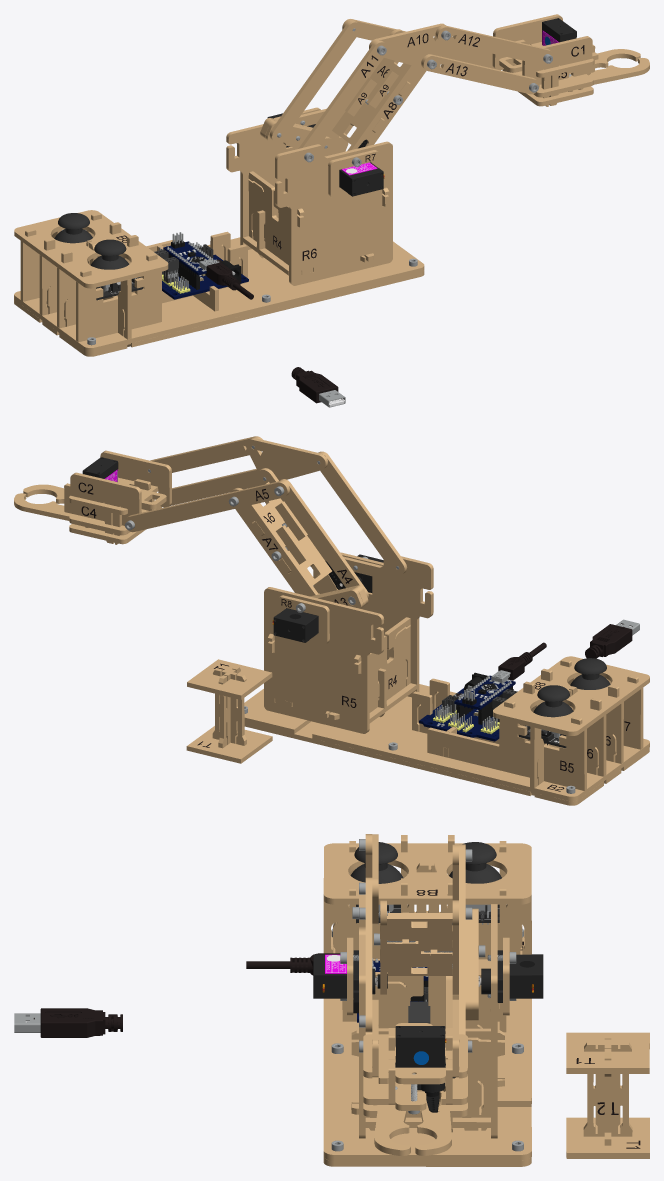
3 views of the same model, one above another, from view 1: azimuth 30°, elevation 25°; view 2: azimuth 150°, elevation 25°; view 3: azimuth 270°, elevation 25° (orthographic). The views are drawn at different scales.
Visible parts, largest first — view 1: NAUO14, NAUO2, NAUO8, NAUO7, NAUO15, NAUO13, NAUO21, NAUO1, NAUO25, NAUO27, NAUO28, NAUO6 (+24 smaller); view 2: NAUO15, NAUO2, NAUO4, NAUO14, NAUO8, NAUO22, NAUO13, NAUO1, NAUO25, NAUO26, NAUO5, NAUO33 (+27 smaller); view 3: NAUO2, NAUO8, NAUO29, NAUO9, NAUO13, NAUO44, NAUO41, USBCableend, NAUO12, NAUO42, ARA_C3_Rev1, NAUO163 (×2) (+27 smaller).
Boxes of the visible parts, bbox=[...] form: NAUO14: bbox=[275, 141, 392, 285]; NAUO2: bbox=[14, 237, 424, 352]; NAUO8: bbox=[14, 210, 168, 288]; NAUO7: bbox=[76, 253, 161, 342]; NAUO15: bbox=[226, 108, 326, 249]; NAUO13: bbox=[248, 171, 304, 265]; NAUO21: bbox=[269, 20, 361, 142]; NAUO1: bbox=[14, 270, 424, 356]; NAUO25: bbox=[298, 40, 387, 148]; NAUO27: bbox=[435, 25, 553, 65]; NAUO28: bbox=[421, 54, 539, 94]; NAUO6: bbox=[57, 235, 247, 333]; NAUO15: bbox=[264, 587, 384, 733]; NAUO2: bbox=[244, 684, 649, 801]; NAUO4: bbox=[427, 700, 586, 790]; NAUO14: bbox=[313, 556, 433, 697]; NAUO8: bbox=[493, 656, 649, 735]; NAUO22: bbox=[124, 481, 289, 532]; NAUO13: bbox=[354, 617, 410, 712]; NAUO1: bbox=[244, 721, 649, 805]; NAUO25: bbox=[318, 451, 407, 575]; NAUO26: bbox=[246, 438, 327, 480]; NAUO5: bbox=[412, 681, 606, 781]; NAUO33: bbox=[70, 472, 141, 544]; NAUO2: bbox=[323, 930, 531, 1160]; NAUO8: bbox=[323, 843, 531, 904]; NAUO29: bbox=[380, 913, 452, 975]; NAUO9: bbox=[323, 863, 531, 959]; NAUO13: bbox=[372, 972, 490, 1038]; NAUO44: bbox=[566, 1032, 649, 1073]; NAUO41: bbox=[566, 1117, 649, 1158]; USBCableend: bbox=[14, 1008, 122, 1037]; NAUO12: bbox=[351, 1028, 504, 1130]; NAUO42: bbox=[583, 1042, 632, 1136]; ARA_C3_Rev1: bbox=[363, 1023, 467, 1084]; NAUO163 (×2): bbox=[350, 842, 501, 883].
Size of the model in its own units: 421 by 157 by 290.
